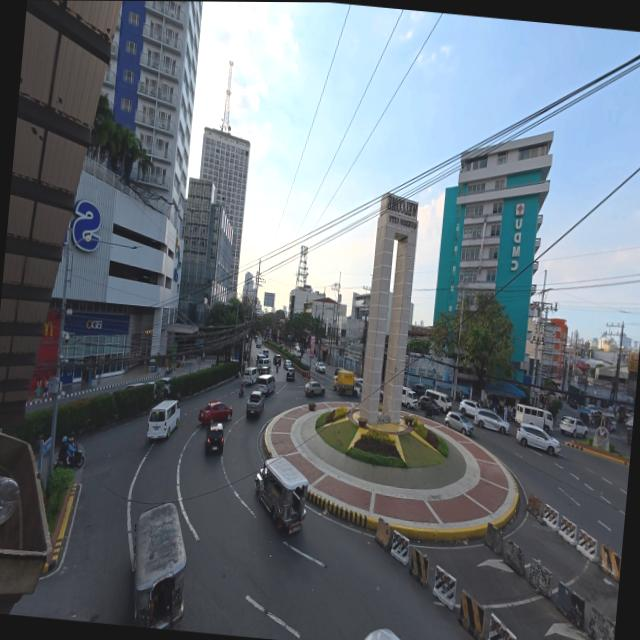Jeepneys: (133, 503, 185, 629), (254, 457, 307, 534)
car: (516, 424, 560, 454), (474, 410, 509, 434), (197, 401, 231, 424), (444, 410, 472, 434), (204, 421, 223, 455), (559, 417, 587, 437), (245, 391, 264, 416), (417, 396, 438, 418), (458, 399, 478, 417), (365, 629, 399, 639), (304, 381, 324, 396), (601, 412, 615, 430), (411, 383, 426, 398), (158, 377, 171, 393), (314, 361, 325, 373), (282, 359, 292, 371), (285, 368, 294, 381), (585, 405, 597, 414), (353, 378, 362, 390), (272, 355, 280, 365), (378, 389, 383, 403), (262, 350, 268, 357)
motorcycle: (53, 450, 83, 469), (626, 430, 638, 444), (164, 364, 172, 375), (238, 387, 243, 397), (275, 365, 278, 372)
trucks: (334, 370, 357, 395), (255, 337, 262, 348)
vans: (147, 400, 179, 438), (515, 405, 552, 431), (425, 390, 450, 412), (256, 375, 274, 396), (401, 388, 416, 408), (243, 367, 257, 385), (256, 357, 270, 372)
